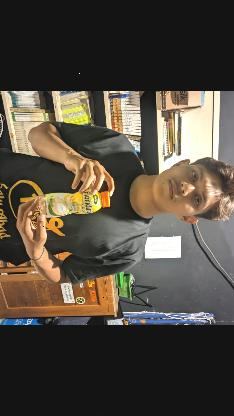Plastic Bottle: (36, 190, 110, 218)
